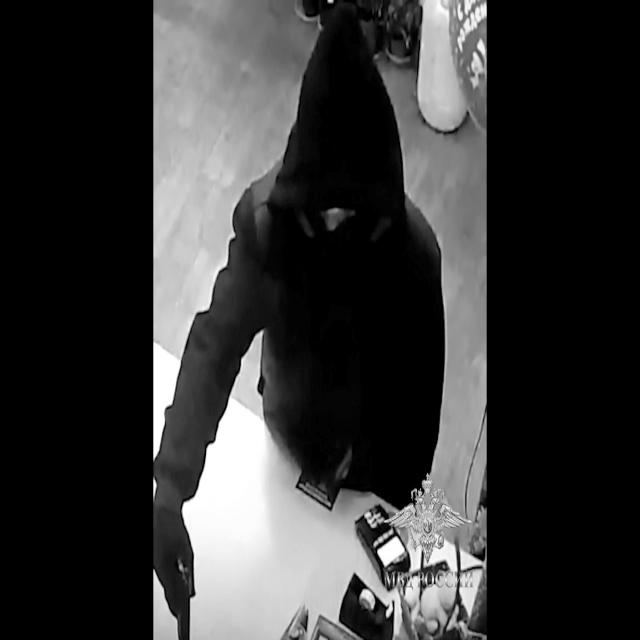gun: (155, 499, 198, 640)
person with a gun: (160, 16, 442, 636)
